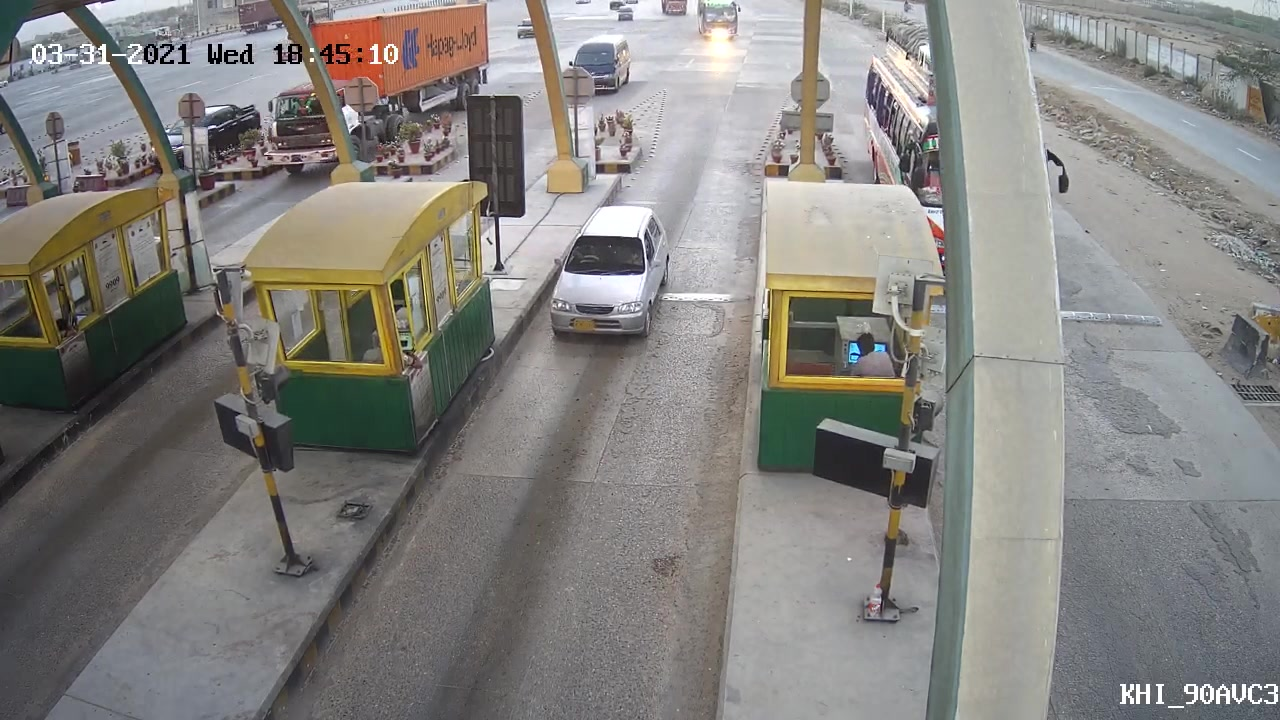F1: (538, 198, 681, 345)
